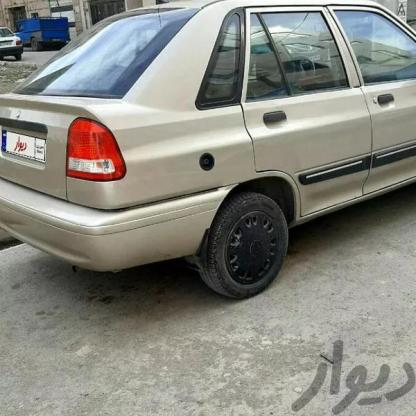Car: (0, 0, 416, 301), (15, 11, 74, 56), (0, 28, 33, 66)
